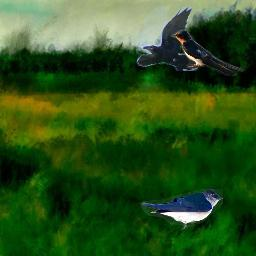Crow: (136, 6, 198, 71)
Swallow: (170, 28, 245, 76), (140, 189, 223, 230)
